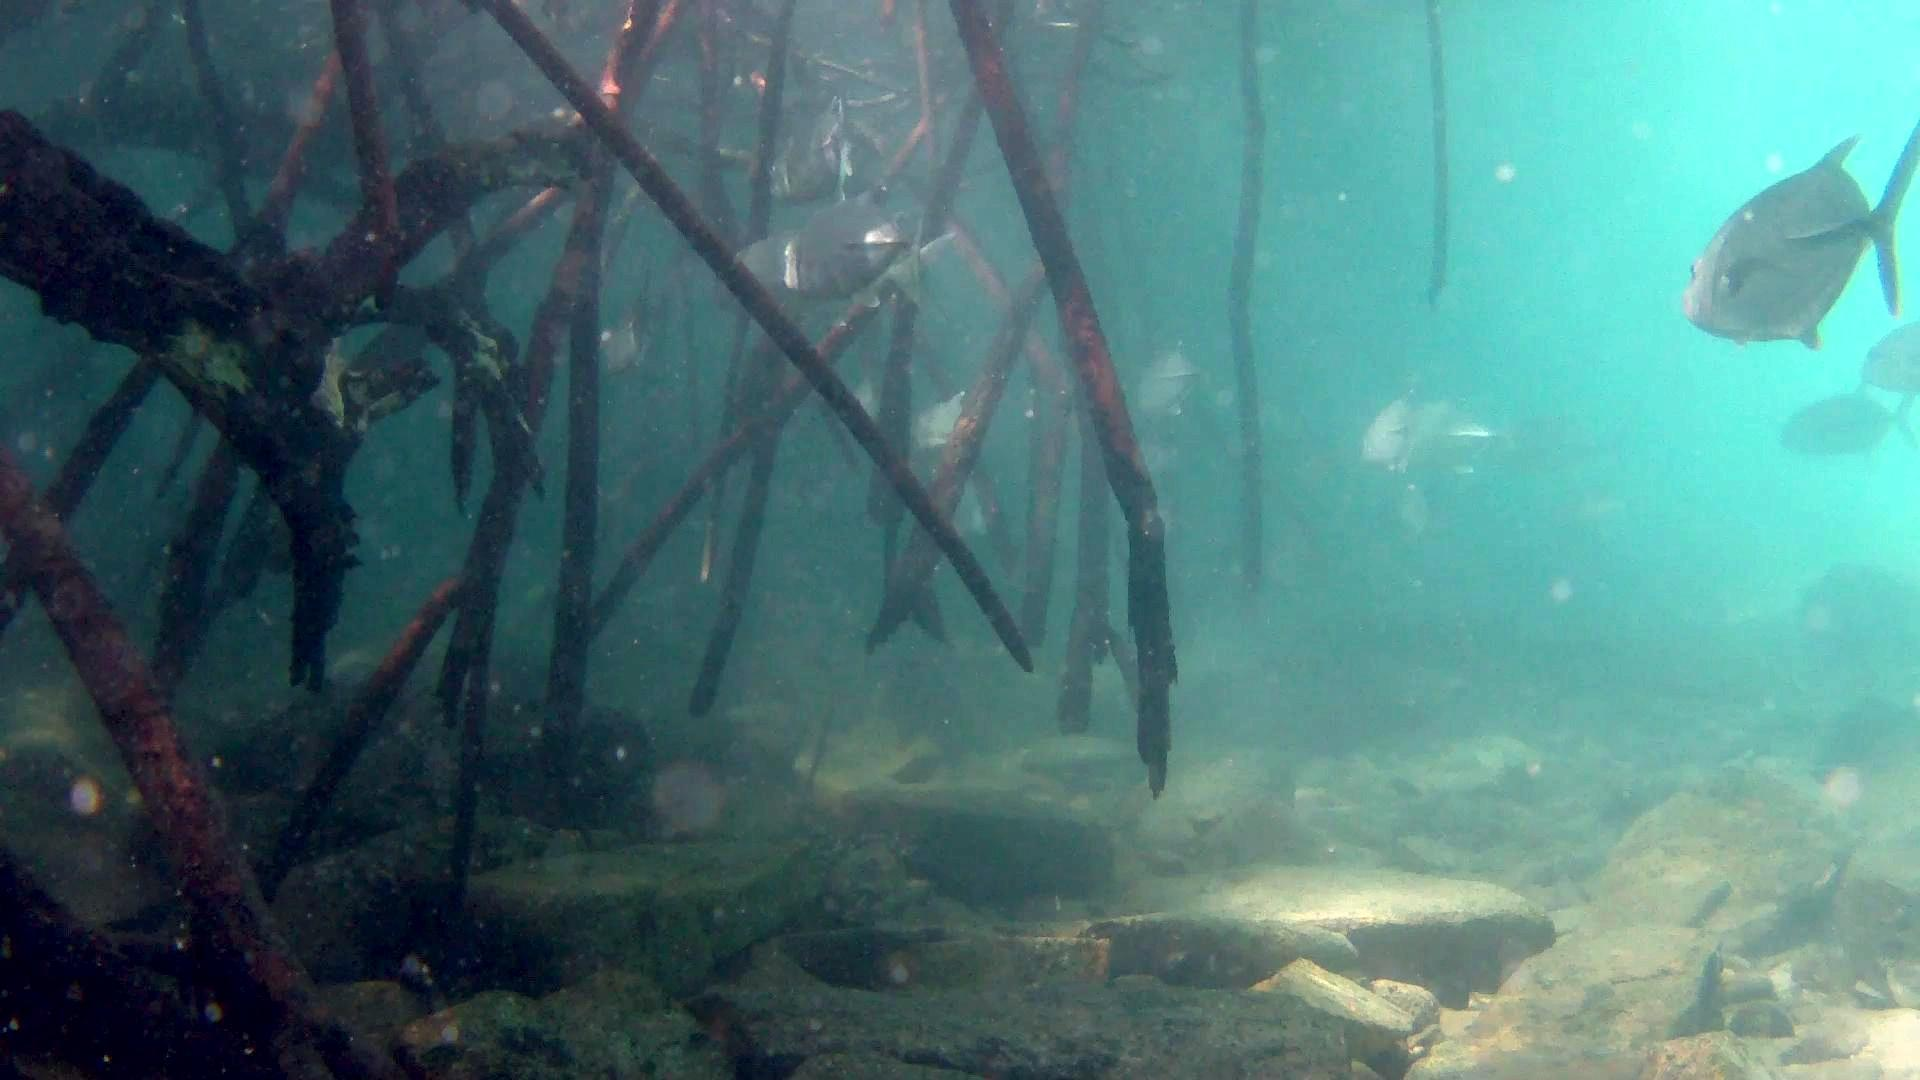caranx: (1663, 129, 1920, 357), (770, 173, 961, 327)
